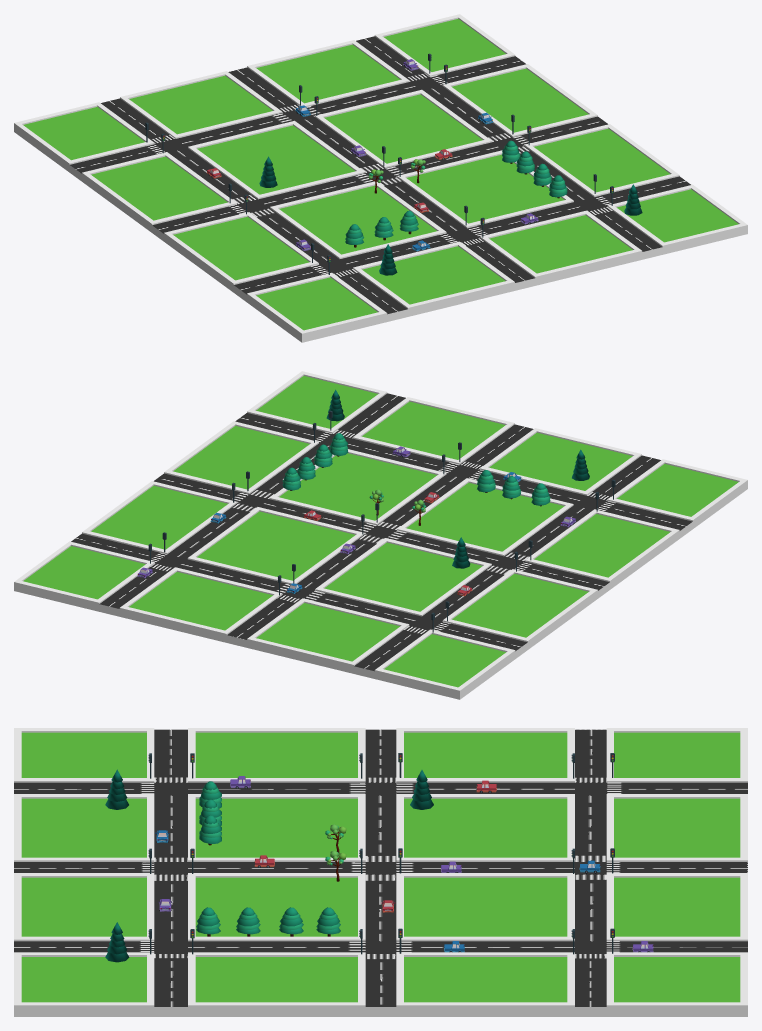
Rendered from sehir_renkli.fbx.
3 views of the same model, one above another, from view 1: azimuth 30°, elevation 25°; view 2: azimuth 150°, elevation 25°; view 3: azimuth 270°, elevation 25° (orthographic). The views are drawn at different scales.
Visible parts, largest first — view 1: Cube; view 2: Cube; view 3: Cube, agac1.001, agac1, agac1.002, agac3.006, agac3.002, agac3, agac3.003, agac3.001.
Part boxes in pixels (x1,y1,x2,y2): Cube: [14, 14, 747, 342]; Cube: [14, 371, 747, 699]; Cube: [14, 728, 747, 1016]; agac1.001: [105, 922, 129, 962]; agac1: [105, 769, 128, 809]; agac1.002: [410, 770, 433, 809]; agac3.006: [199, 815, 221, 845]; agac3.002: [279, 907, 303, 936]; agac3: [196, 907, 220, 936]; agac3.003: [236, 907, 260, 936]; agac3.001: [316, 907, 340, 936].
Size of the model in its own units: 21236 by 1752 by 23761.
41 materials, 41 textured.
